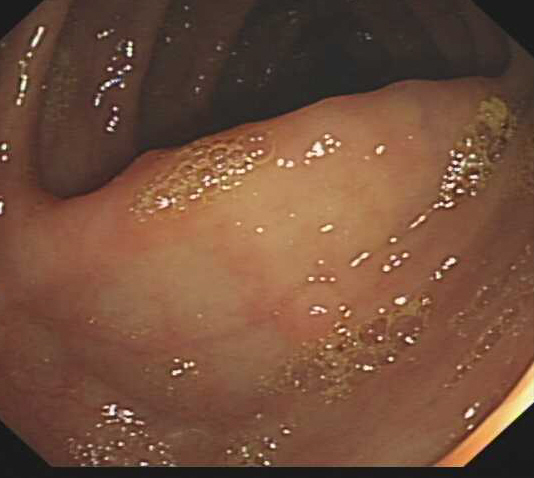adenoma: (266, 281, 341, 354)
